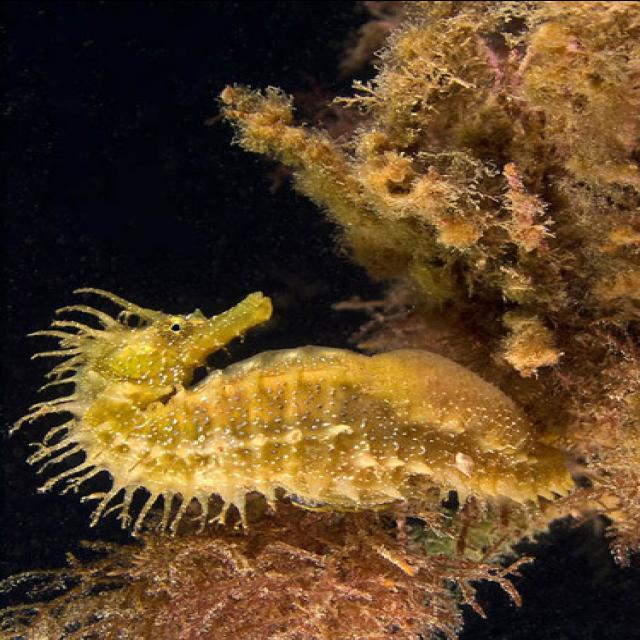Guttu: (54, 286, 278, 418)
